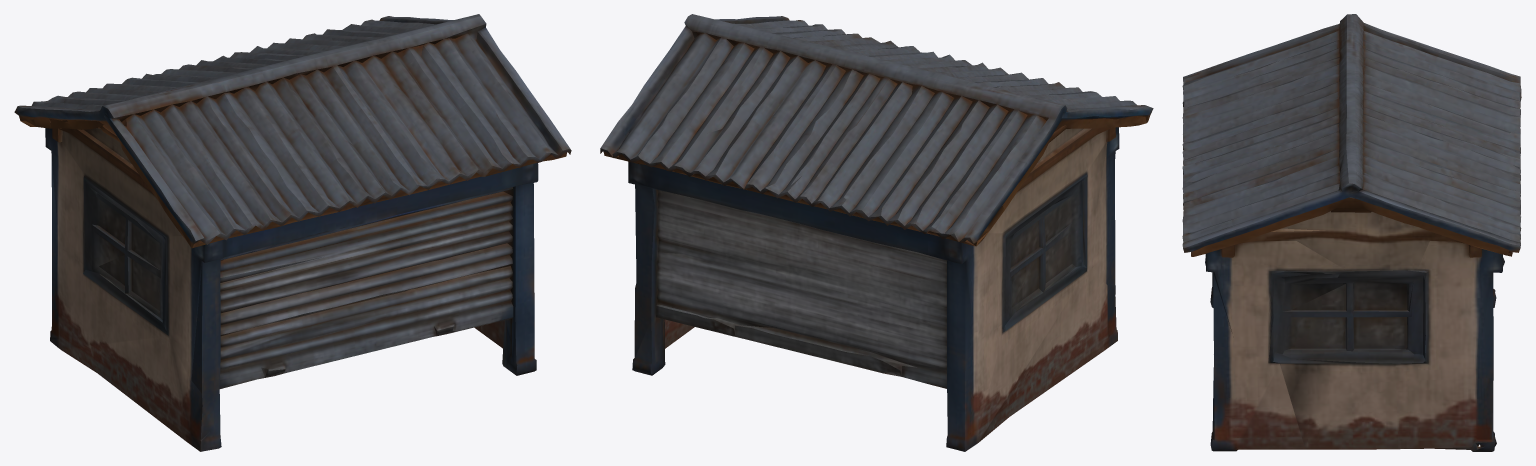
File: shutter.glb
3 views of the same model, side by side, from view 1: azimuth 30°, elevation 25°; view 2: azimuth 150°, elevation 25°; view 3: azimuth 270°, elevation 25° (orthographic). The views are drawn at different scales.
Visible parts, largest first — view 1: world; view 2: world; view 3: world.
Boxes of the visible parts, <box> form: world: <box>14,14,571,451</box>; world: <box>600,14,1153,451</box>; world: <box>1182,14,1521,451</box>.
Bounding box in the file's own units: 1 × 0.76 × 0.8405.
Materials: 1 (1 with a texture image).
